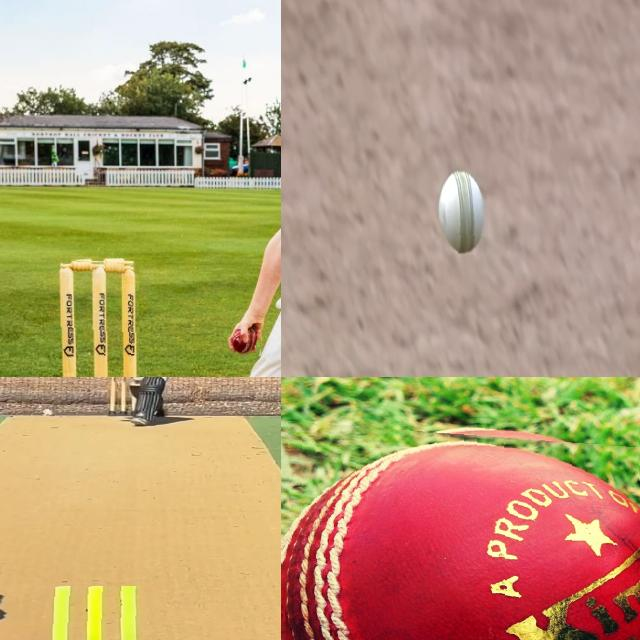Cricket ball: (281, 421, 640, 640), (437, 165, 487, 255), (228, 323, 262, 359), (42, 408, 55, 416)
Stumps: (55, 258, 139, 377), (30, 586, 167, 640), (106, 377, 139, 417)
